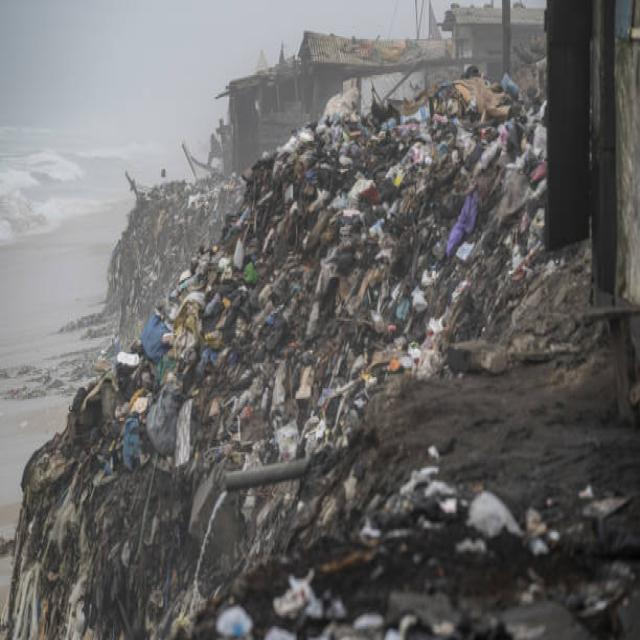trash: (60, 88, 550, 604)
